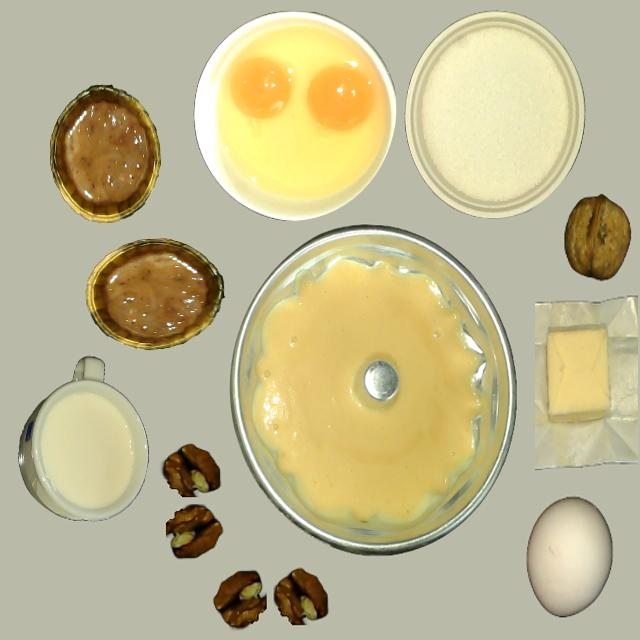Egg: (307, 64, 373, 130), (229, 56, 293, 120)
Milk: (43, 395, 134, 507)
Sugar: (406, 11, 584, 217)
Walnut: (564, 197, 630, 280)
